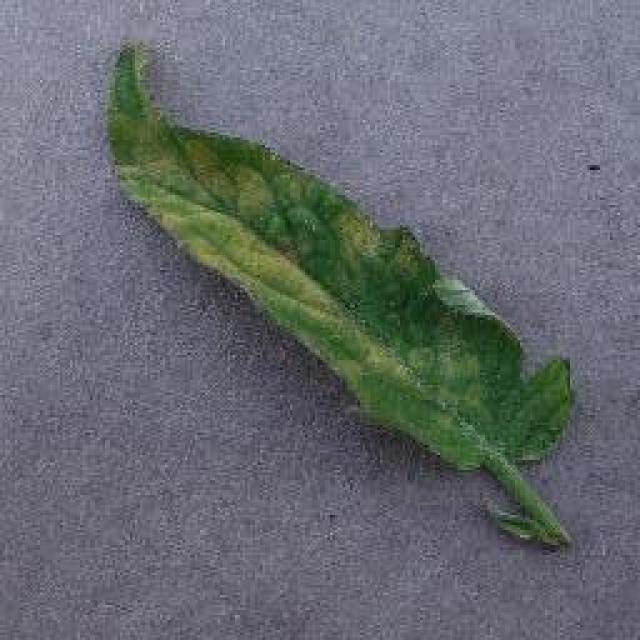Tomato mold leaf: (112, 45, 578, 565)
